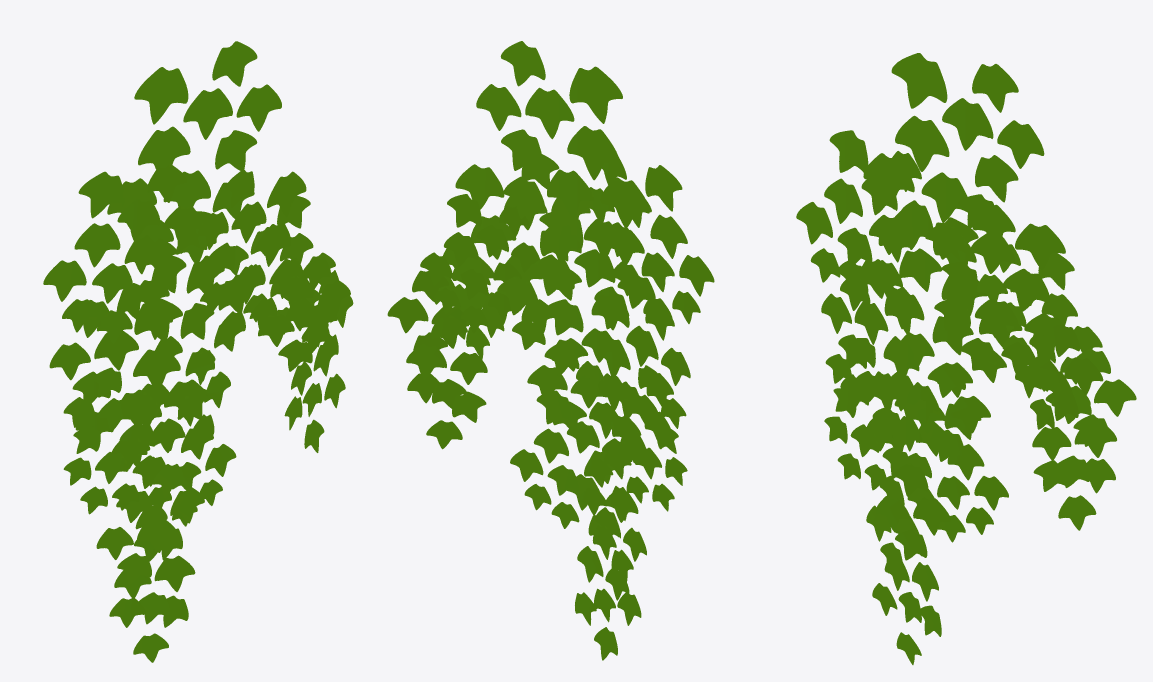
The model's file is Prop_Vine1.glb.
3 renders of one model, left to right at view 1: azimuth 30°, elevation 25°; view 2: azimuth 150°, elevation 25°; view 3: azimuth 330°, elevation 25°, orthographic. The views are drawn at different scales.
Parts seen in each view (by area): view 1: Prop_Vine1; view 2: Prop_Vine1; view 3: Prop_Vine1.
Part boxes in pixels (x1=…): Prop_Vine1: x1=43, y1=41, x2=353, y2=662; Prop_Vine1: x1=387, y1=41, x2=714, y2=660; Prop_Vine1: x1=796, y1=53, x2=1136, y2=664.
Size of the model in its own units: 1.54 by 2.6 by 0.2189.
1 material, 1 textured.
